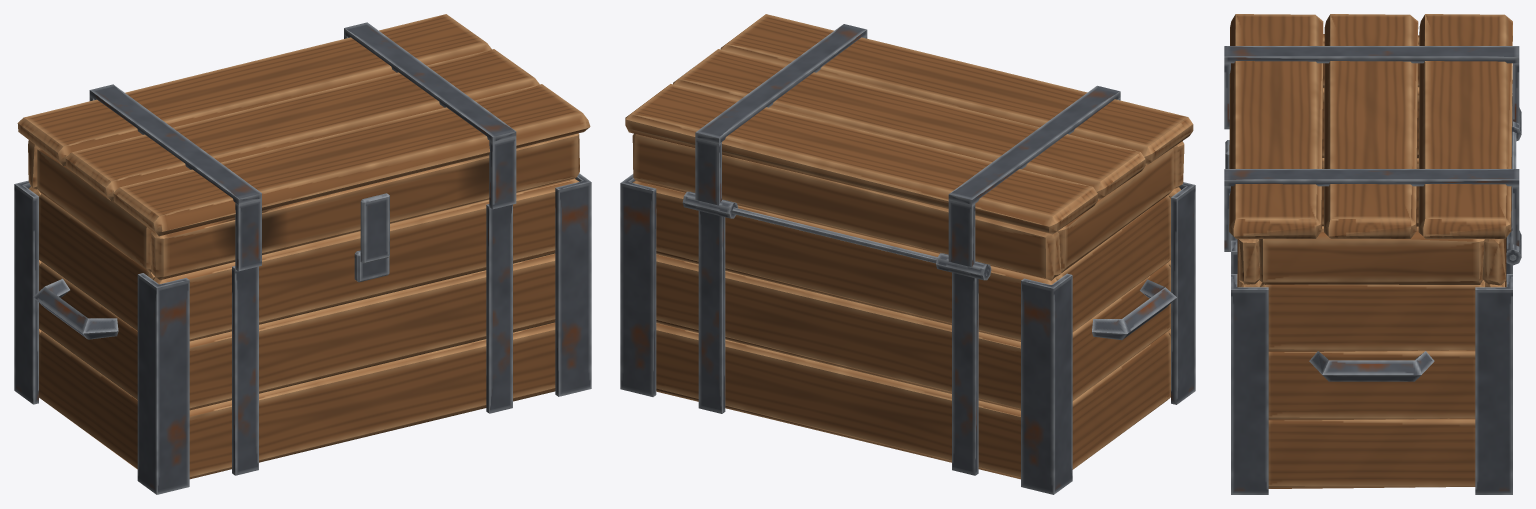
The model's file is storage_chest.glb.
The picture shows the model from 3 angles, left to right: view 1: azimuth 30°, elevation 25°; view 2: azimuth 150°, elevation 25°; view 3: azimuth 270°, elevation 25°; orthographic projection.
Visible parts, largest first — view 1: storage_chest_static, lid; view 2: storage_chest_static, lid; view 3: lid, storage_chest_static.
Boxes of the visible parts, x1,y1,x2,y2 form: storage_chest_static: (14,173,591,494); lid: (17,14,590,280); storage_chest_static: (620,174,1195,494); lid: (625,14,1193,280); lid: (1224,14,1521,285); storage_chest_static: (1231,80,1512,494).
Size of what is drawn, in the model's own units: 1.04 by 0.567 by 0.552.
Materials: 2 (2 with a texture image).
